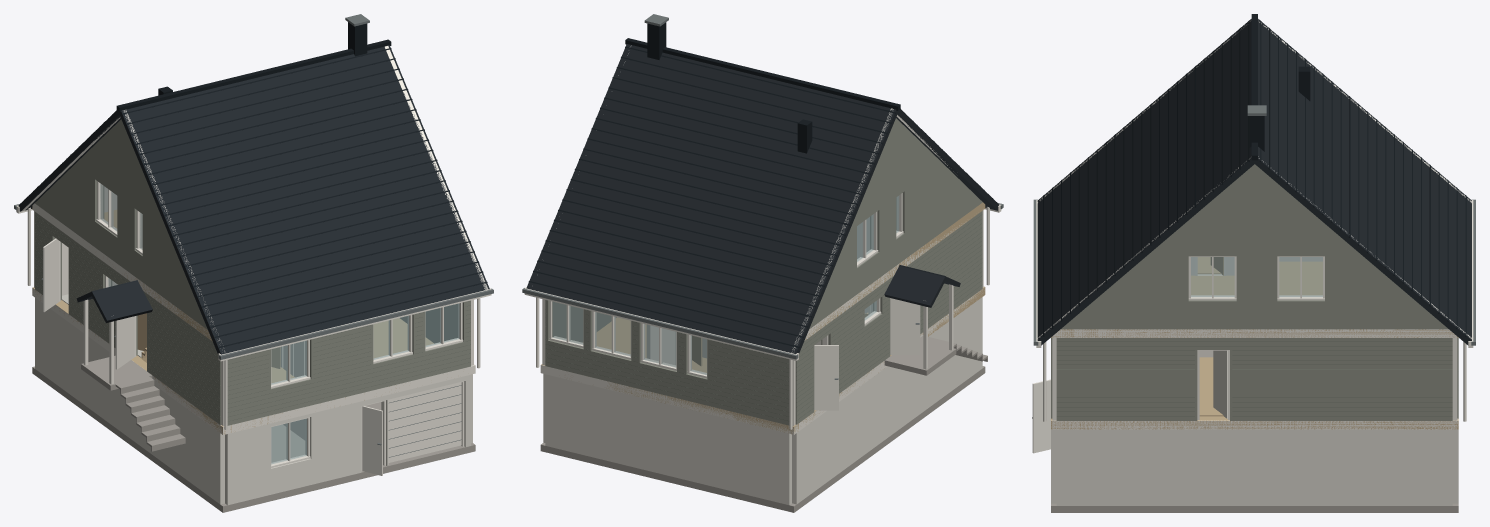
Rendered from avstyckningsvagen-5-ritningsmodell.glb.
3 renders of one model, left to right at view 1: azimuth 30°, elevation 25°; view 2: azimuth 150°, elevation 25°; view 3: azimuth 270°, elevation 25°, orthographic. The views are drawn at different scales.
Parts seen in each view (by area): view 1: Takfall mot gata, Överplan · entrégavel, Gatufasad (×7), Källare · entrégavel, Entréfasad (×3), Källare · gata (×3), Bjälklagskant · vit fasadbräda (×3), Källare · gata · garageport, Bjälklag med trappöppning (×2), Gatufasad · fönster (×3), Entréfasad · dörr · dörrblad (×2), Nock (+13 smaller); view 2: Takfall mot trädgård, Källare · trädgård, Överplan · entrégavel, Källare · entrégavel, Trädgårdsfasad (×8), Entréfasad (×5), Bjälklag med trappöppning (×3), Bjälklagskant · vit fasadbräda (×3), Trädgårdsfasad · fönster (×4), Entréfasad · dörr · dörrblad (×2), Nock, Entré · sadeltak (+9 smaller); view 3: Takfall mot gata, Källare · motsatt gavel, Motsatt gavel (×2), Takfall mot trädgård, Överplan · motsatt gavel, Bjälklag med trappöppning (×3), Bjälklagskant · vit fasadbräda (×2), Överplan · motsatt gavel · fönster (×2), Sovrum (×2), Källare · gata · dörr · dörrblad, Vardagsrum, Motsatt gavel · dörr · dörrblad (+4 smaller).
Part boxes in pixels (box(x1,y1,x2,y2)): Takfall mot gata: box(118, 45, 489, 354); Överplan · entrégavel: box(35, 119, 207, 329); Gatufasad (×7): box(227, 300, 470, 425); Källare · entrégavel: box(35, 298, 224, 504); Entréfasad (×3): box(35, 212, 221, 424); Källare · gata (×3): box(225, 401, 361, 505); Bjälklagskant · vit fasadbräda (×3): box(33, 203, 475, 434); Källare · gata · garageport: box(388, 382, 461, 462); Bjälklag med trappöppning (×2): box(32, 287, 475, 512); Gatufasad · fönster (×3): box(271, 303, 459, 384); Entréfasad · dörr · dörrblad (×2): box(43, 238, 134, 369); Nock: box(116, 39, 391, 111); Takfall mot trädgård: box(526, 44, 897, 353); Källare · trädgård: box(545, 374, 791, 505); Överplan · entrégavel: box(809, 118, 982, 329); Källare · entrégavel: box(792, 297, 982, 504); Trädgårdsfasad (×8): box(548, 309, 789, 425); Entréfasad (×5): box(795, 211, 982, 424); Bjälklag med trappöppning (×3): box(540, 202, 985, 512); Bjälklagskant · vit fasadbräda (×3): box(540, 209, 984, 434); Trädgårdsfasad · fönster (×4): box(552, 302, 706, 374); Entréfasad · dörr · dörrblad (×2): box(814, 298, 920, 410); Nock: box(625, 38, 900, 110); Entré · sadeltak: box(884, 265, 946, 307); Takfall mot gata: box(1037, 19, 1256, 345); Källare · motsatt gavel: box(1056, 429, 1452, 505); Motsatt gavel (×2): box(1056, 338, 1452, 420); Takfall mot trädgård: box(1253, 19, 1471, 345); Överplan · motsatt gavel: box(1061, 164, 1448, 329); Bjälklag med trappöppning (×3): box(1051, 329, 1458, 512); Bjälklagskant · vit fasadbräda (×2): box(1052, 329, 1457, 429); Överplan · motsatt gavel · fönster (×2): box(1191, 257, 1322, 297); Sovrum (×2): box(1191, 261, 1322, 295); Källare · gata · dörr · dörrblad: box(1032, 379, 1050, 453); Vardagsrum: box(1199, 357, 1223, 416); Motsatt gavel · dörr · dörrblad: box(1213, 350, 1227, 418).
Size of the model in its own units: 9.96 by 11.32 by 11.6.
